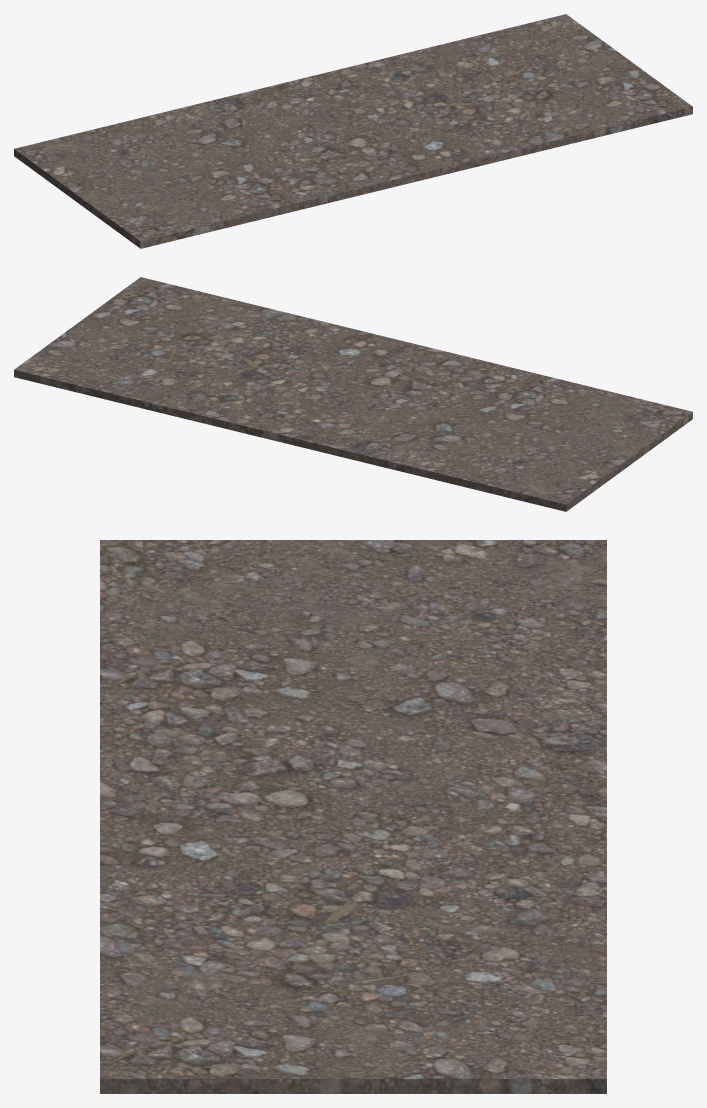
The model's file is Z1-P-Block 2.fbx.
3 renders of one model, top to bottom at view 1: azimuth 30°, elevation 25°; view 2: azimuth 150°, elevation 25°; view 3: azimuth 270°, elevation 25°, orthographic. The views are drawn at different scales.
Visible parts, largest first — view 1: polySurface5__1__sh_122, polySurface5__1__sh_7, polySurface5__1__sh_50, polySurface5__1__sh_145, polySurface5__1__sh_118, polySurface5__1__sh_37, polySurface5__1__sh_72, polySurface5__1__sh_36, polySurface5__1__sh_78, polySurface5__1__sh_102, polySurface5__1__sh_52, polySurface5__1__sh_57 (+97 smaller); view 2: polySurface5__1__sh_122, polySurface5__1__sh_118, polySurface5__1__sh_78, polySurface5__1__sh_37, polySurface5__1__sh_72, polySurface5__1__sh_91, polySurface5__1__sh_7, polySurface5__1__sh_50, polySurface5__1__sh_36, polySurface5__1__sh_106, polySurface5__1__sh_10, polySurface5__1__sh_138 (+90 smaller); view 3: polySurface5__1__sh_122, polySurface5__1__sh_37, polySurface5__1__sh_84, polySurface5__1__sh_118, polySurface5__1__sh_72, polySurface5__1__sh_36, polySurface5__1__sh_7, polySurface5__1__sh_50, polySurface5__1__sh_104, polySurface5__1__sh_78, polySurface5__1__sh_102, polySurface5__1__sh_52 (+124 smaller).
Part boxes in pixels (x1=…): polySurface5__1__sh_122: x1=431, y1=30, x2=503, y2=65; polySurface5__1__sh_7: x1=476, y1=128, x2=531, y2=163; polySurface5__1__sh_50: x1=419, y1=141, x2=488, y2=172; polySurface5__1__sh_145: x1=136, y1=215, x2=209, y2=244; polySurface5__1__sh_118: x1=499, y1=18, x2=576, y2=43; polySurface5__1__sh_37: x1=578, y1=58, x2=636, y2=90; polySurface5__1__sh_72: x1=496, y1=35, x2=549, y2=70; polySurface5__1__sh_36: x1=366, y1=64, x2=433, y2=90; polySurface5__1__sh_78: x1=14, y1=137, x2=78, y2=160; polySurface5__1__sh_102: x1=447, y1=64, x2=510, y2=92; polySurface5__1__sh_52: x1=325, y1=112, x2=382, y2=137; polySurface5__1__sh_57: x1=99, y1=202, x2=152, y2=233; polySurface5__1__sh_122: x1=81, y1=377, x2=171, y2=410; polySurface5__1__sh_118: x1=28, y1=355, x2=88, y2=393; polySurface5__1__sh_78: x1=518, y1=475, x2=572, y2=511; polySurface5__1__sh_37: x1=75, y1=311, x2=150, y2=333; polySurface5__1__sh_72: x1=87, y1=352, x2=144, y2=381; polySurface5__1__sh_91: x1=222, y1=414, x2=287, y2=440; polySurface5__1__sh_7: x1=276, y1=316, x2=344, y2=337; polySurface5__1__sh_50: x1=327, y1=327, x2=383, y2=352; polySurface5__1__sh_36: x1=202, y1=386, x2=249, y2=417; polySurface5__1__sh_106: x1=485, y1=467, x2=526, y2=499; polySurface5__1__sh_10: x1=438, y1=454, x2=483, y2=486; polySurface5__1__sh_138: x1=399, y1=454, x2=453, y2=480; polySurface5__1__sh_122: x1=493, y1=946, x2=606, y2=1012; polySurface5__1__sh_37: x1=243, y1=1022, x2=365, y2=1093; polySurface5__1__sh_84: x1=390, y1=1031, x2=508, y2=1093; polySurface5__1__sh_118: x1=506, y1=1012, x2=606, y2=1064; polySurface5__1__sh_72: x1=407, y1=991, x2=582, y2=1031; polySurface5__1__sh_36: x1=443, y1=880, x2=600, y2=918; polySurface5__1__sh_7: x1=100, y1=880, x2=199, y2=932; polySurface5__1__sh_50: x1=100, y1=829, x2=189, y2=882; polySurface5__1__sh_104: x1=151, y1=1040, x2=250, y2=1093; polySurface5__1__sh_78: x1=496, y1=540, x2=606, y2=588; polySurface5__1__sh_102: x1=350, y1=931, x2=497, y2=970; polySurface5__1__sh_52: x1=302, y1=795, x2=426, y2=838.
Size of the model in its own units: 1730 by 21.99 by 688.
1 material, 1 textured.
